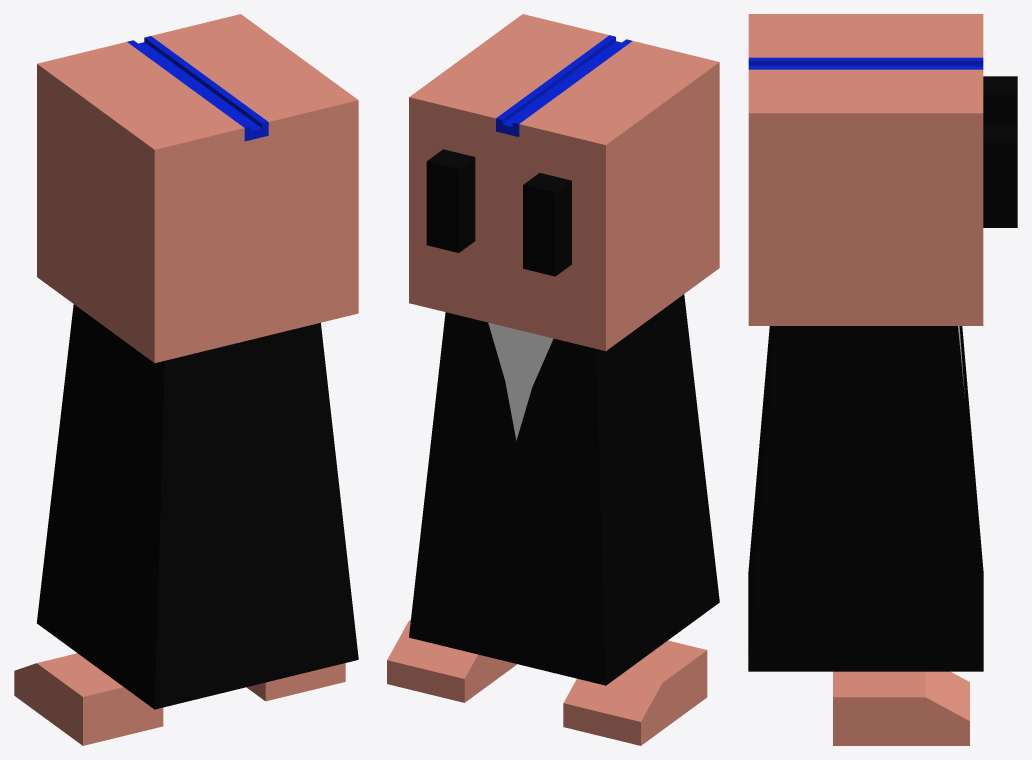
The model's file is Player.fbx.
3 renders of one model, left to right at view 1: azimuth 30°, elevation 25°; view 2: azimuth 150°, elevation 25°; view 3: azimuth 270°, elevation 25°, orthographic. The views are drawn at different scales.
Parts seen in each view (by area): view 1: Player; view 2: Player; view 3: Player.
Boxes of the visible parts, <box> form: Player: <box>14,14,358,745</box>; Player: <box>387,14,719,745</box>; Player: <box>748,14,1017,745</box>.
Bounding box in the file's own units: 80.95 × 182 × 71.97.
